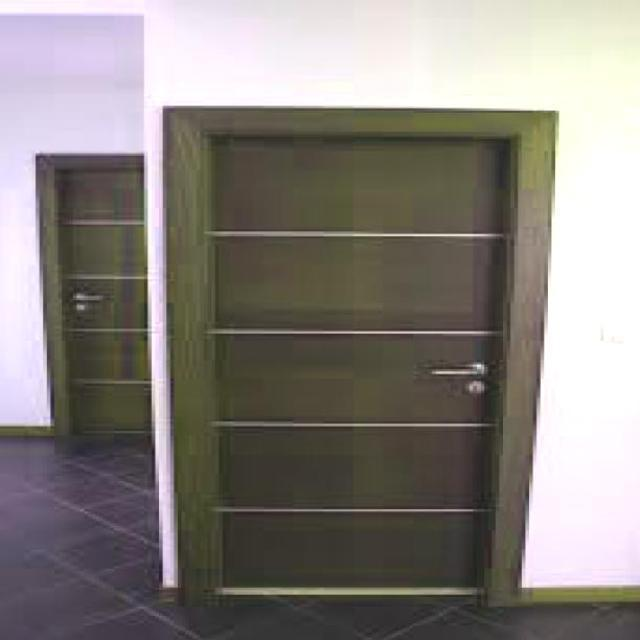door: (158, 93, 586, 609), (54, 156, 158, 438)
